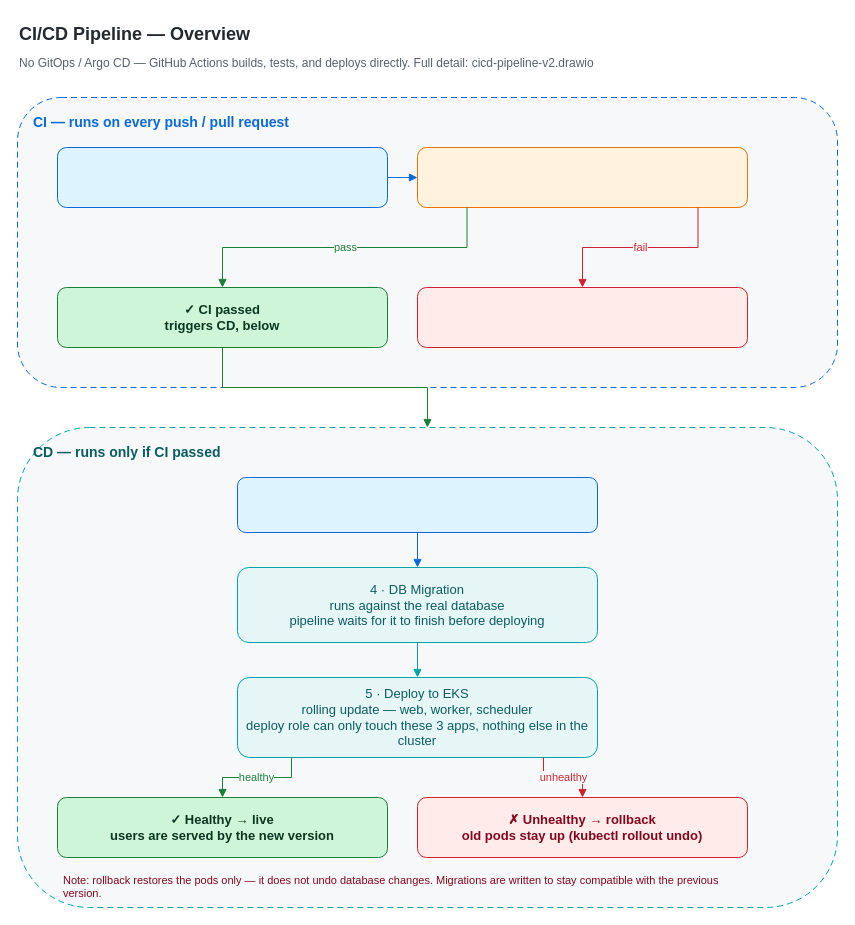
Image size: 855x925. Some labels were removed from this diagram. The shapes that lost their labels are listed below. From the top down, each one's centre as x and y in pixels, then its label:
At [222,177]: "1 · Build & Test lint + unit tests, against real PostgreSQL / Redis".
At [582,177]: "2 · Security Scan Trivy (image) + tfsec (infra) — fails on HIGH severity".
At [582,317]: "✗ CI failed pipeline stops here — nothing is deployed".
At [417,504]: "3 · Push to ECR image tagged with the git commit hash".
